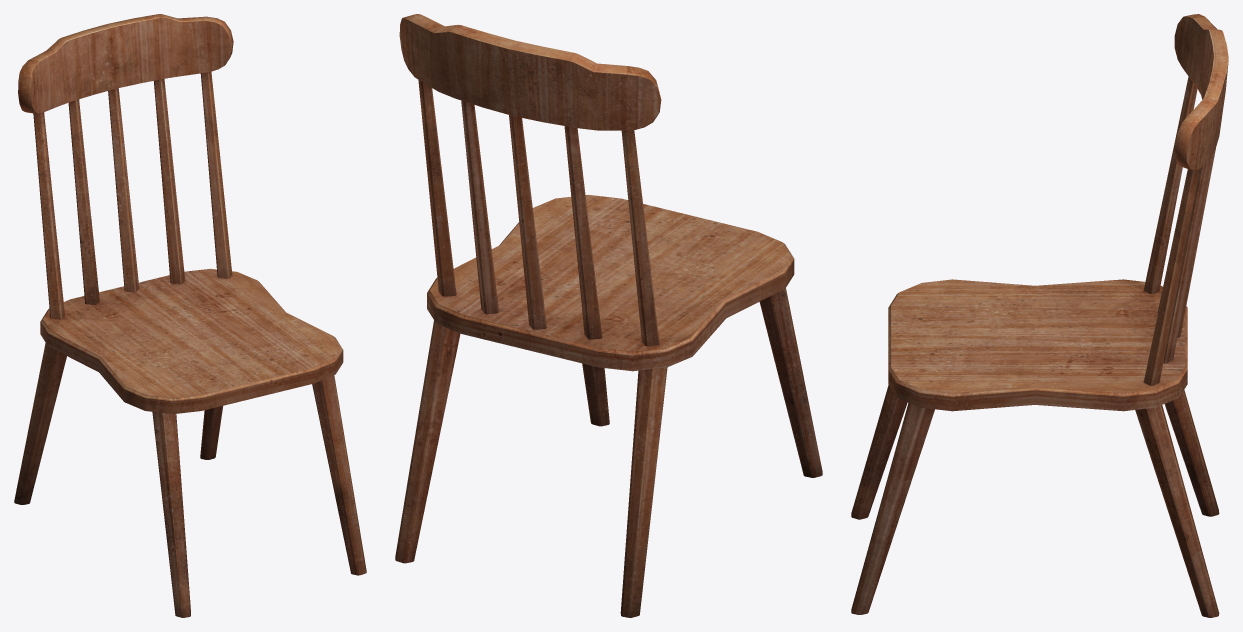
Rendered from chair02.FBX.
The picture shows the model from 3 angles, left to right: view 1: azimuth 30°, elevation 25°; view 2: azimuth 150°, elevation 25°; view 3: azimuth 270°, elevation 25°; orthographic projection. The views are drawn at different scales.
Visible parts, largest first — view 1: SM_Chair02; view 2: SM_Chair02; view 3: SM_Chair02.
Boxes of the visible parts, bbox=[...] form: SM_Chair02: bbox=[14, 14, 366, 617]; SM_Chair02: bbox=[395, 14, 822, 617]; SM_Chair02: bbox=[851, 14, 1228, 617].
Bounding box in the file's own units: 50.56 × 101 × 68.37.
1 material, 1 textured.
